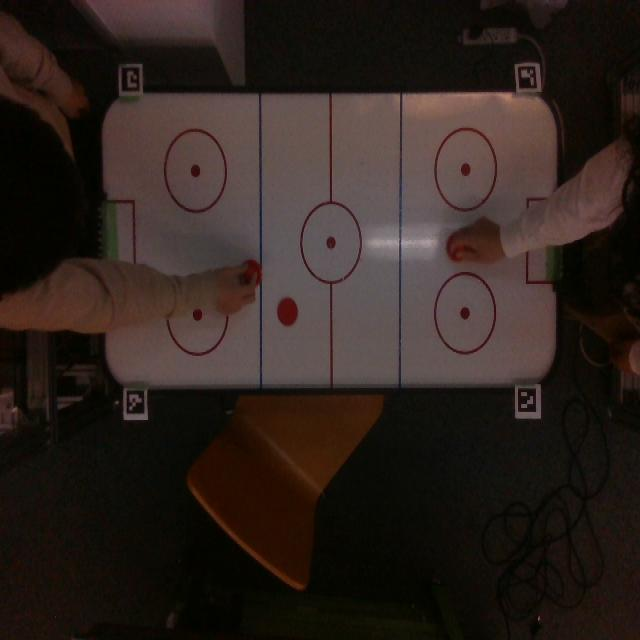puck: (278, 298, 298, 326)
